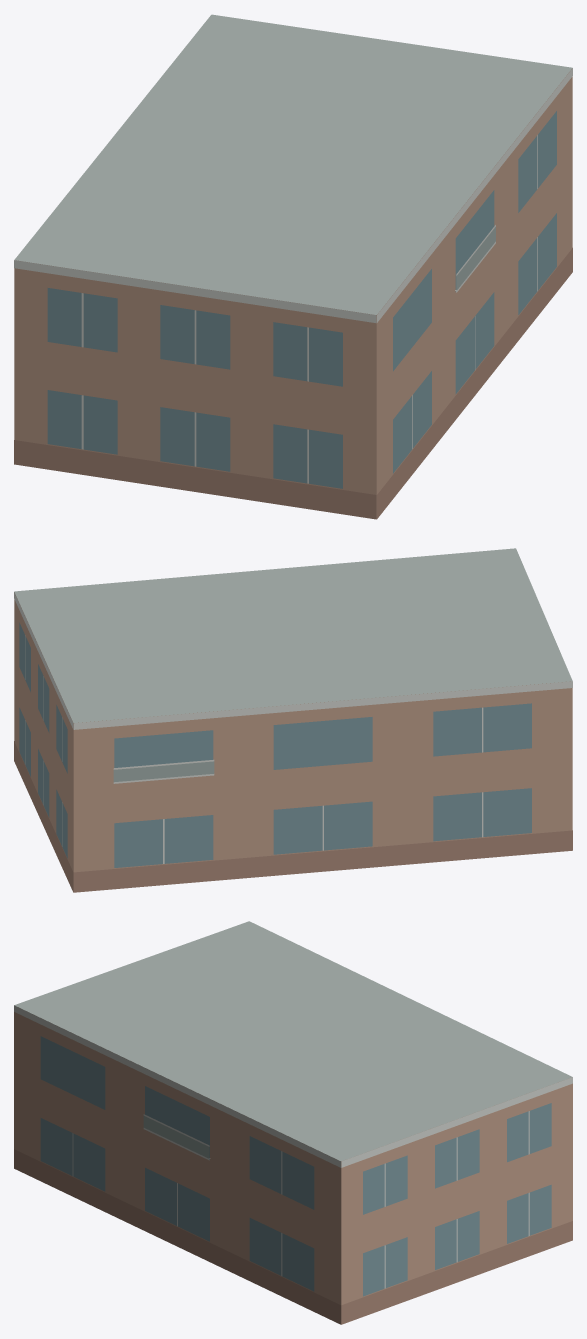
The model's file is survey-upis-32523311.glb.
3 renders of one model, top to bottom at view 1: azimuth 30°, elevation 25°; view 2: azimuth 150°, elevation 25°; view 3: azimuth 270°, elevation 25°, orthographic. The views are drawn at different scales.
Visible parts, largest first — view 1: survey-upis-32523311.tmp; view 2: survey-upis-32523311.tmp; view 3: survey-upis-32523311.tmp.
Part boxes in pixels (x1=…): survey-upis-32523311.tmp: x1=14, y1=14, x2=572, y2=519; survey-upis-32523311.tmp: x1=14, y1=548, x2=572, y2=892; survey-upis-32523311.tmp: x1=14, y1=921, x2=572, y2=1324.
Bounding box in the file's own units: 19.26 × 6.1 × 18.92.
